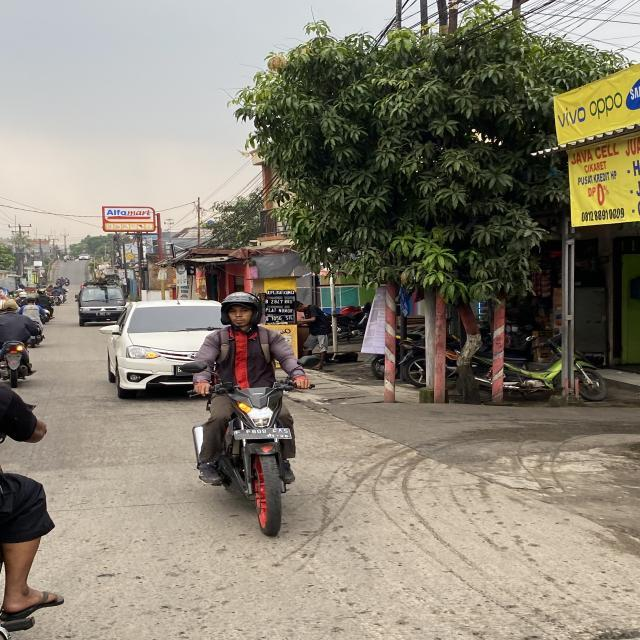Helmet: (221, 292, 261, 324), (0, 298, 17, 311)
Number Plate: (234, 427, 291, 439), (174, 365, 192, 377)
Rearview Mirror: (179, 361, 207, 373), (99, 324, 120, 334)
